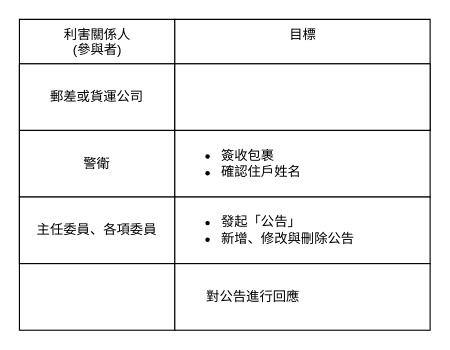
Image size: 450x350. Some labels were removed from this diagram. The centre of each missing label's shape, as x and y in pixels:
"住戶" goes at (x=96, y=296).
"信件/包裹收發任務" goes at (x=302, y=96).
